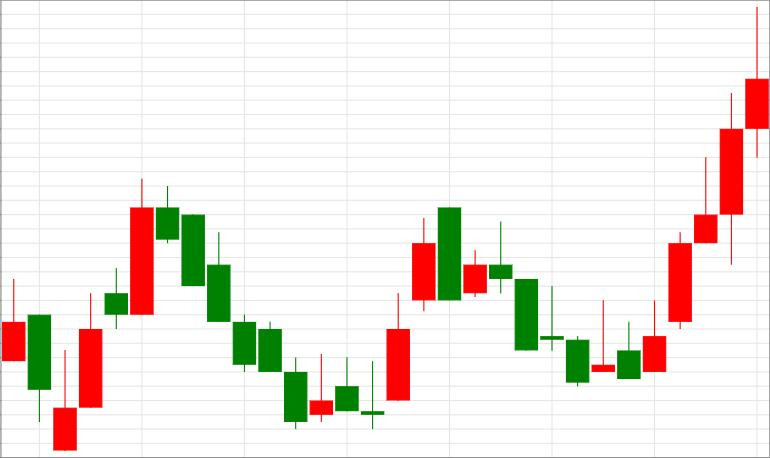morning_star_rise: (157, 186, 409, 429)
